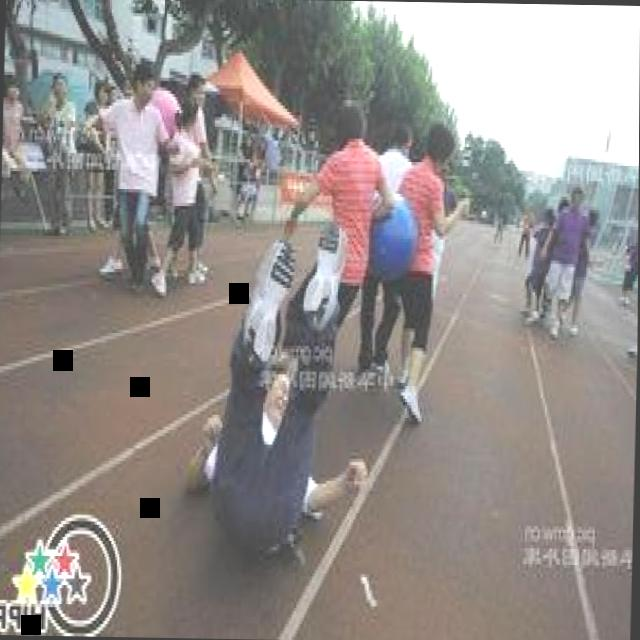Fall-Detected: (175, 209, 393, 555)
